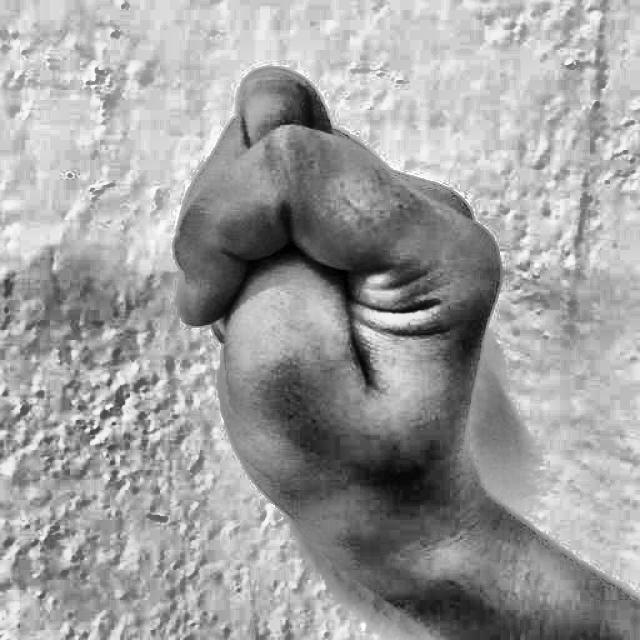Ta: (129, 35, 565, 632)
